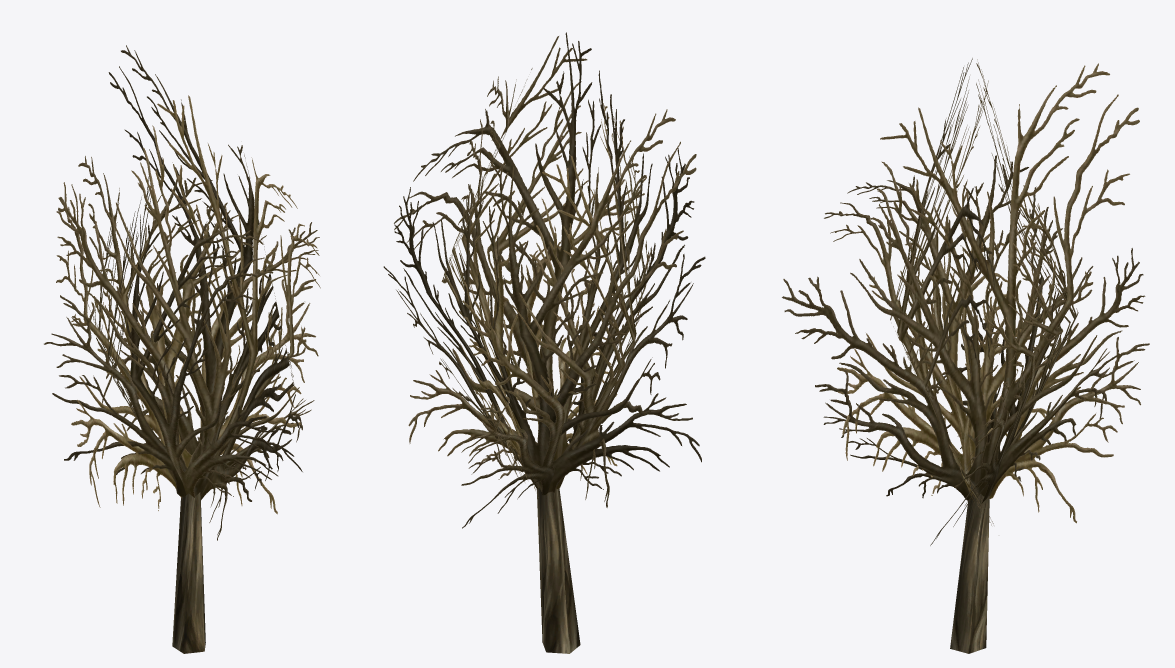
The model's file is duskwoodbrowntree.obj.
The picture shows the model from 3 angles, left to right: view 1: azimuth 30°, elevation 25°; view 2: azimuth 150°, elevation 25°; view 3: azimuth 270°, elevation 25°; orthographic projection. The views are drawn at different scales.
Visible parts, largest first — view 1: Geoset0, Geoset1; view 2: Geoset0, Geoset1; view 3: Geoset0, Geoset1.
Boxes of the visible parts, x1,y1,x2,y2 form: Geoset0: (44,45,320,540); Geoset1: (172,492,205,653); Geoset0: (383,32,705,528); Geoset1: (536,486,580,653); Geoset0: (782,58,1149,545); Geoset1: (950,494,989,653).
Bounding box in the file's own units: 11.52 × 21.41 × 13.52.
Materials: 2 (2 with a texture image).
